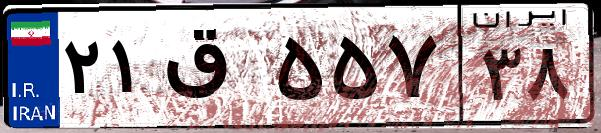1: (110, 28, 158, 98)
2: (57, 26, 110, 100)
3: (475, 38, 525, 113)
5: (270, 28, 330, 110), (330, 28, 385, 110)
7: (385, 28, 445, 110)
8: (525, 38, 570, 115)
ق: (158, 20, 270, 120)
